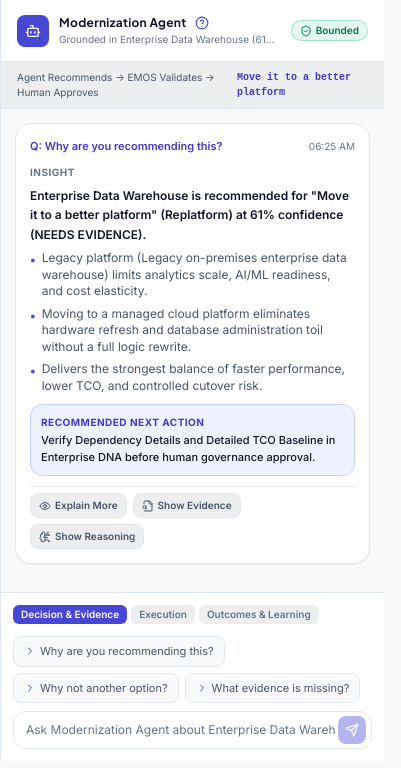
Test: EMOS v2 Full-Lifecycle Autonomous Implementation › implements one governed Modernization Agent with tool trace and 1 conclusion + max 3 bullets + 1 next action
Expected: the heading "Modernization Agent" is shown, [59,15,186,31]
Expected: the text "Agent Recommends → EMOS Validates → Human Approves" is shown, [17,70,237,100]
# Drill-down buttons: Explain More, Show Evidence, Show Reasoning
Click the button "Show Reasoning" at (87, 536), box [30,524,144,549]
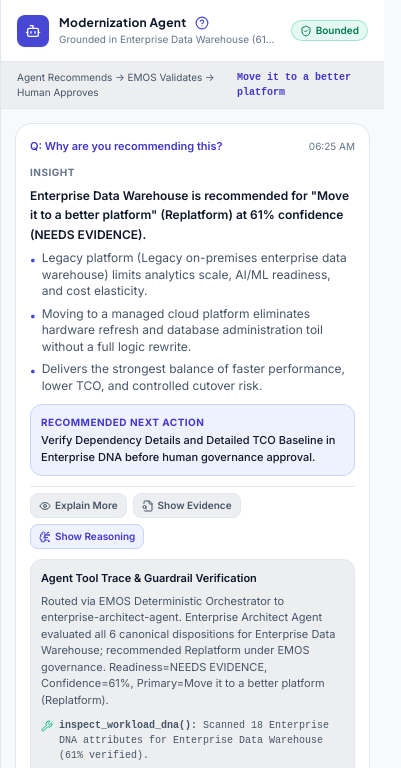
Expected: the text "Agent Tool Trace & Guardrail Verification" is shown, [41,571,257,585]
Expected: the text "inspect_workload_dna():" is shown, [59,720,197,731]
